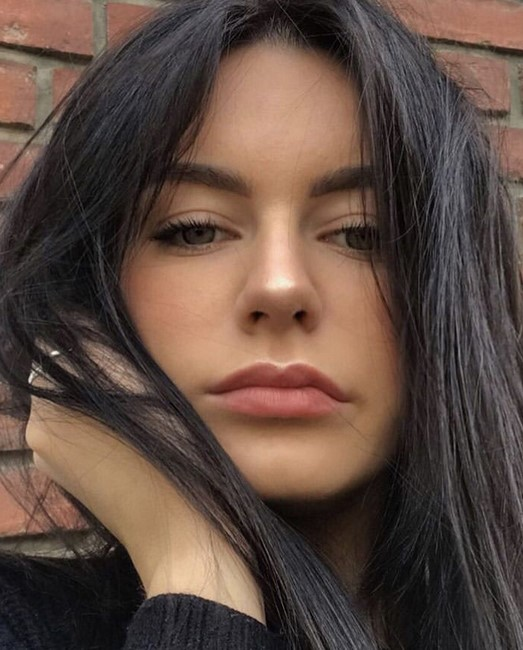face_no_mask: (60, 2, 483, 523)
